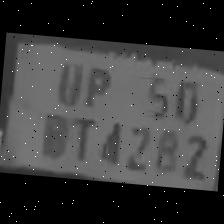0: (167, 74, 202, 125)
2: (176, 128, 210, 184), (119, 119, 153, 174)
4: (92, 114, 124, 168)
5: (140, 70, 172, 120)
8: (148, 122, 182, 177)
B: (34, 106, 70, 160)
P: (78, 60, 114, 111)
T: (65, 111, 98, 164)
U: (49, 55, 84, 108)
